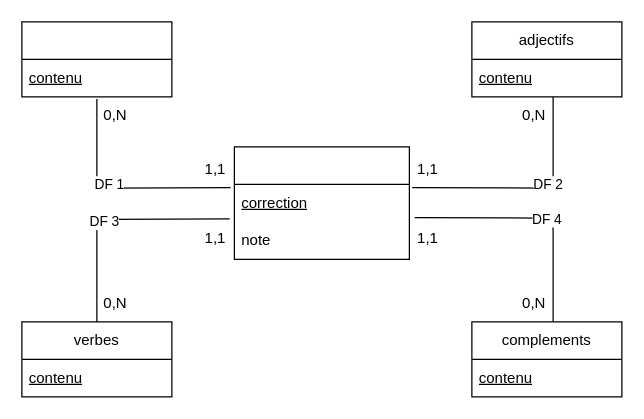
The diagram is 644 pixels wide and 419 high, and some of its shapes have lost their labels. Each missing label, with the box of its shape:
combinaisons: (233, 146, 409, 259)
noms: (21, 21, 172, 97)
